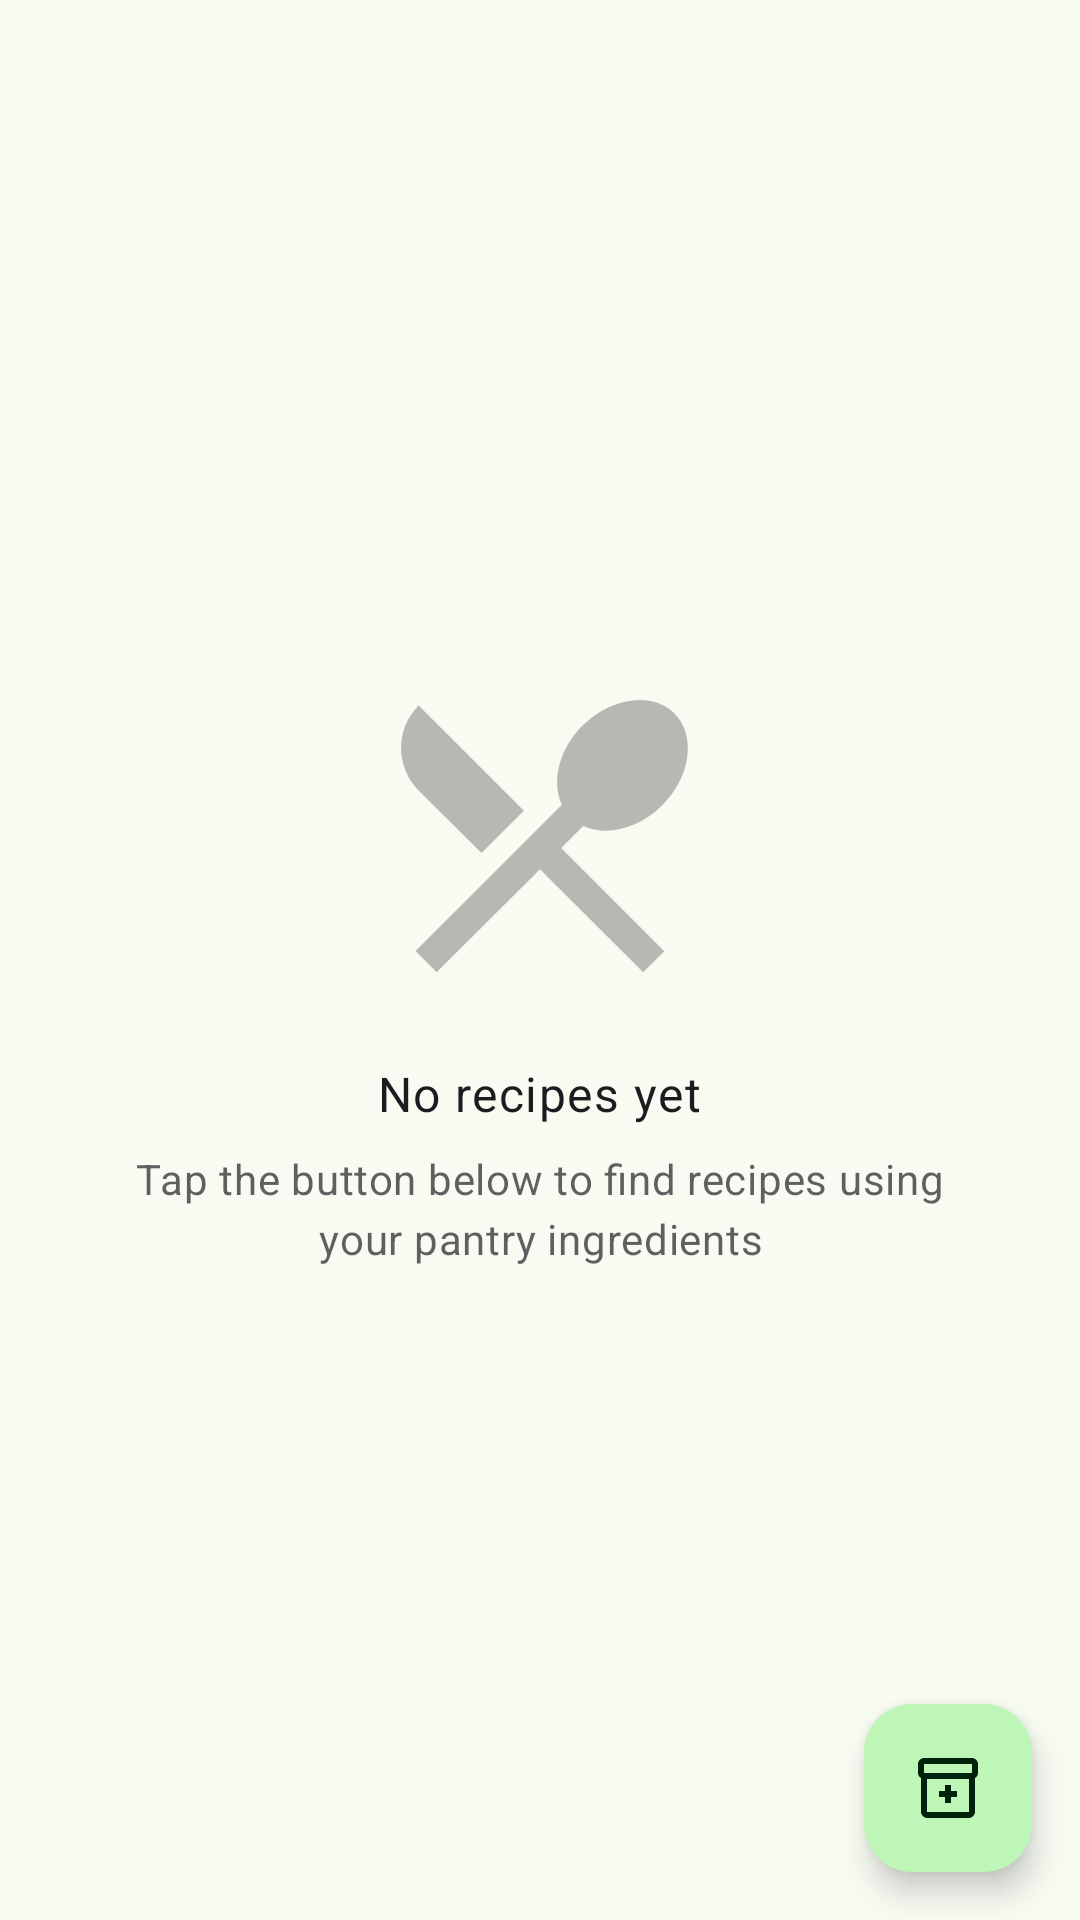

Named icons in this screenshot (1080 × 1920) and their centers, point (x, y):
Search by Pantry: point (948, 1788)
